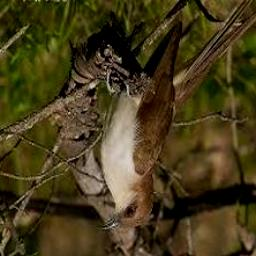Cuckoo: (97, 22, 185, 231)
